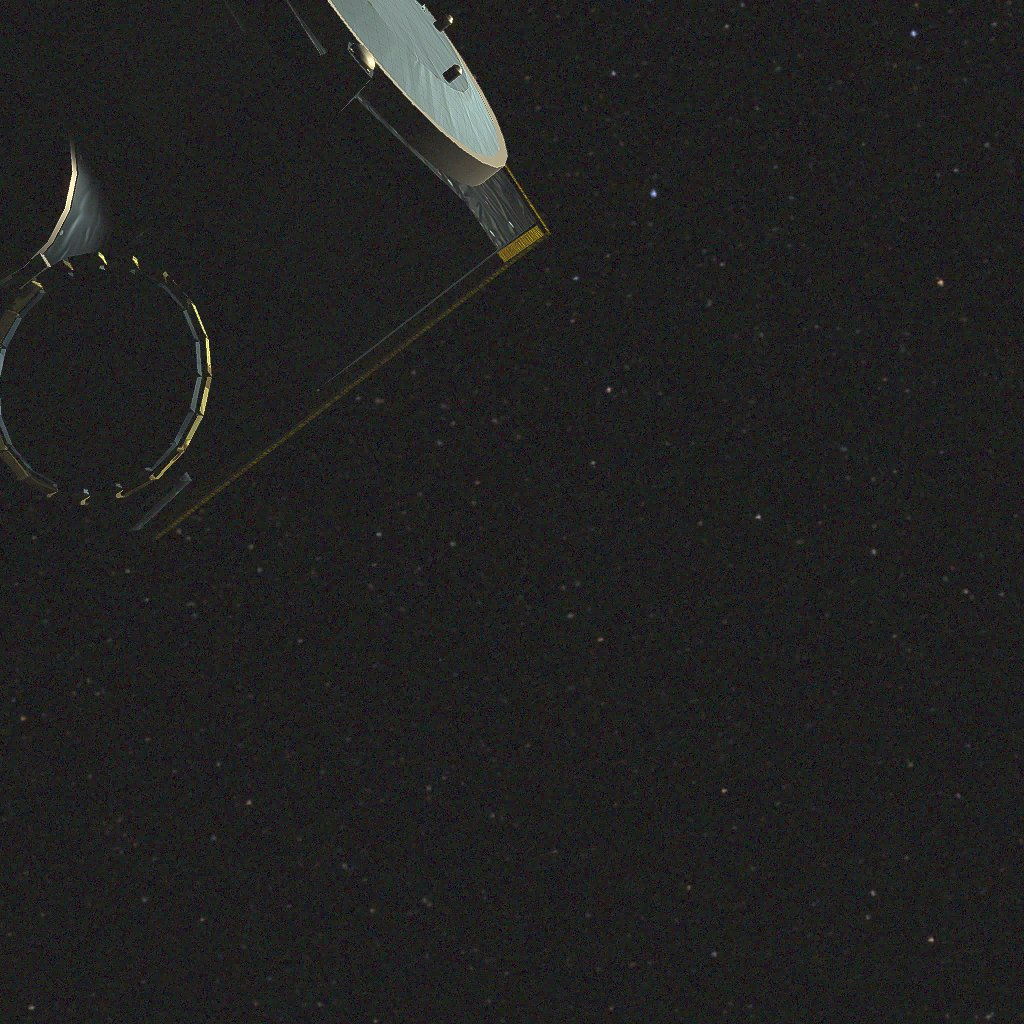cheops: (0, 0, 551, 555)
